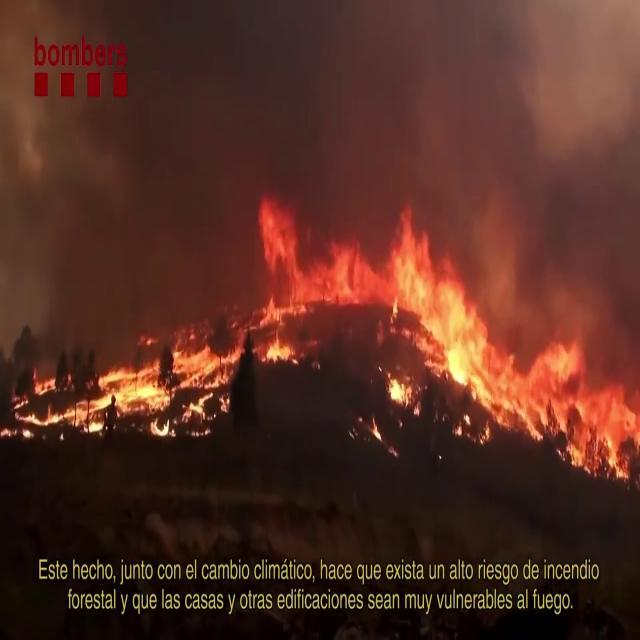Fire: (246, 191, 494, 389), (468, 313, 639, 480), (28, 328, 244, 442)
Smoke: (2, 1, 634, 278)
